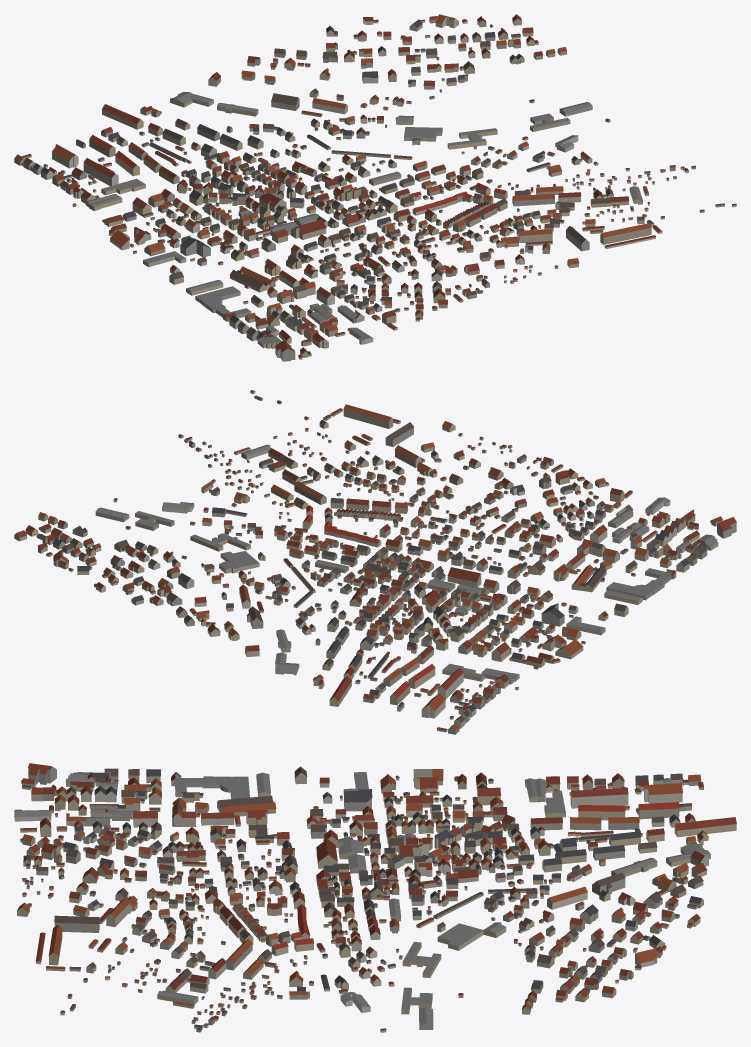
The picture shows the model from 3 angles, top to bottom: view 1: azimuth 30°, elevation 25°; view 2: azimuth 150°, elevation 25°; view 3: azimuth 270°, elevation 25°; orthographic projection. The views are drawn at different scales.
Visible parts, largest first — view 1: buildings; view 2: buildings; view 3: buildings.
Boxes of the visible parts, x1,y1,x2,y2 form: buildings: (14,14,736,361); buildings: (14,390,736,734); buildings: (14,763,736,1032).
Size of the model in its own units: 812 by 101 by 847.
